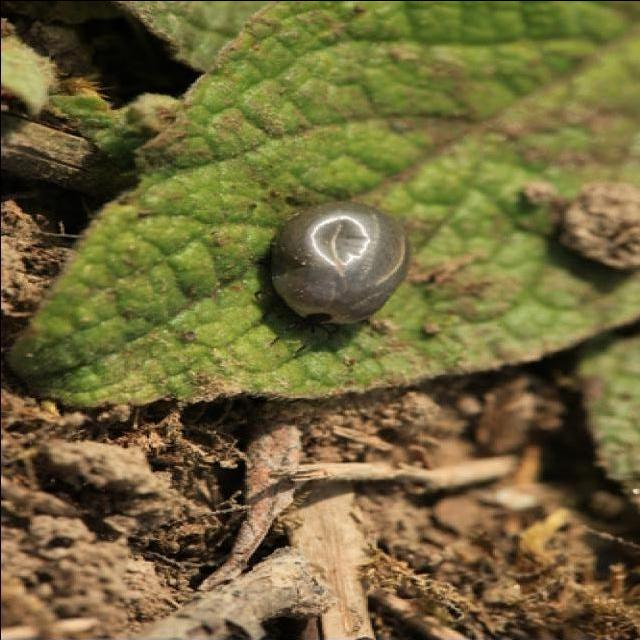Ixodes Ricinus-F-Fed: (252, 202, 415, 357)
